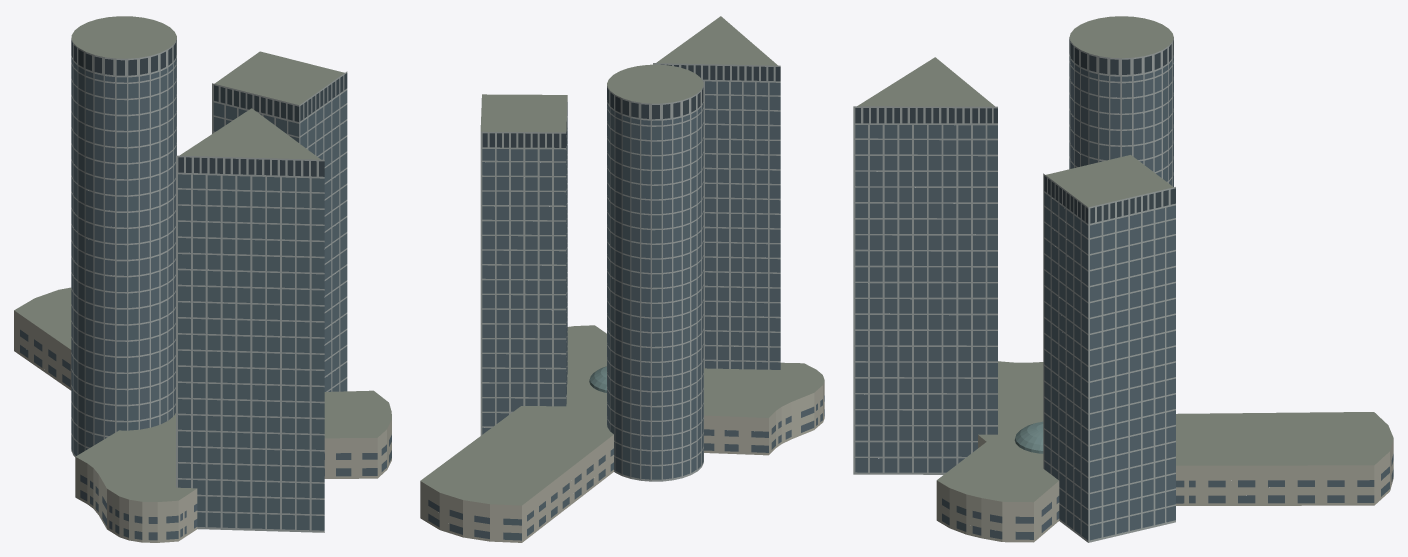
The model's file is azrieli-center-far.glb.
3 renders of one model, left to right at view 1: azimuth 30°, elevation 25°; view 2: azimuth 150°, elevation 25°; view 3: azimuth 270°, elevation 25°, orthographic. The views are drawn at different scales.
Parts seen in each view (by area): view 1: azrieli-center-0-glass, azrieli-center-0-frame, azrieli-center-0-roof, azrieli-center-0-podium, azrieli-center-0-vent; view 2: azrieli-center-0-glass, azrieli-center-0-roof, azrieli-center-0-frame, azrieli-center-0-podium, azrieli-center-0-vent; view 3: azrieli-center-0-glass, azrieli-center-0-frame, azrieli-center-0-roof, azrieli-center-0-podium, azrieli-center-0-vent, azrieli-center-0-atrium.
Boxes of the visible parts, <box> form: azrieli-center-0-glass: <box>20,57,391,540</box>; azrieli-center-0-frame: <box>71,38,347,532</box>; azrieli-center-0-roof: <box>14,16,391,501</box>; azrieli-center-0-podium: <box>14,310,391,542</box>; azrieli-center-0-vent: <box>71,40,347,176</box>; azrieli-center-0-glass: <box>428,81,824,540</box>; azrieli-center-0-roof: <box>420,16,824,505</box>; azrieli-center-0-frame: <box>480,63,780,481</box>; azrieli-center-0-podium: <box>420,381,824,542</box>; azrieli-center-0-vent: <box>482,64,780,147</box>; azrieli-center-0-glass: <box>855,56,1393,540</box>; azrieli-center-0-frame: <box>853,37,1175,542</box>; azrieli-center-0-roof: <box>857,16,1393,502</box>; azrieli-center-0-podium: <box>936,435,1393,542</box>; azrieli-center-0-vent: <box>855,39,1175,223</box>; azrieli-center-0-atrium: <box>1014,421,1043,453</box>.
Size of the model in its own units: 143 by 187 by 225.
